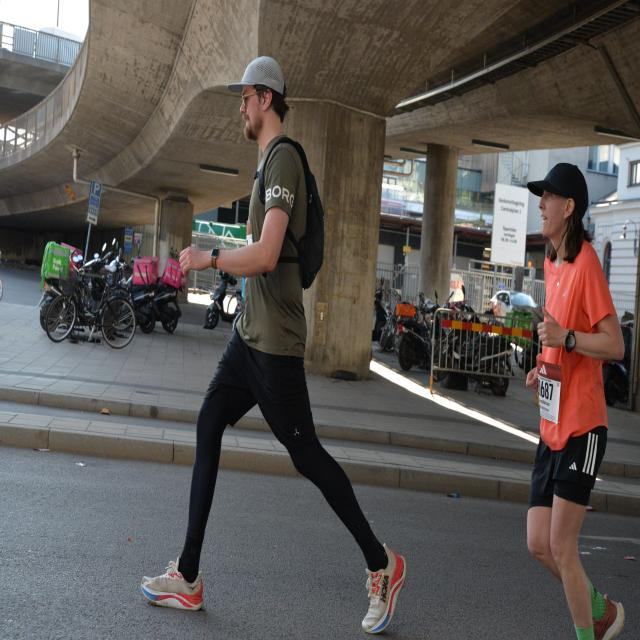runner-detect: (142, 41, 407, 630)
